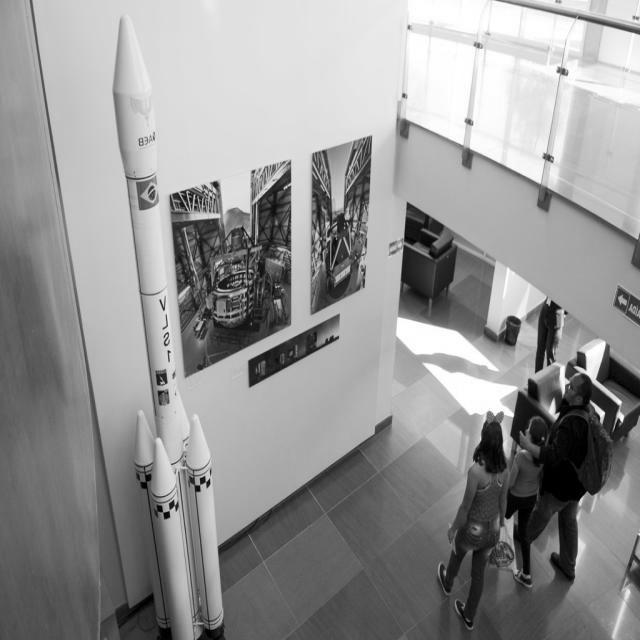missile: (107, 6, 186, 403), (129, 424, 210, 640), (177, 399, 236, 640)
